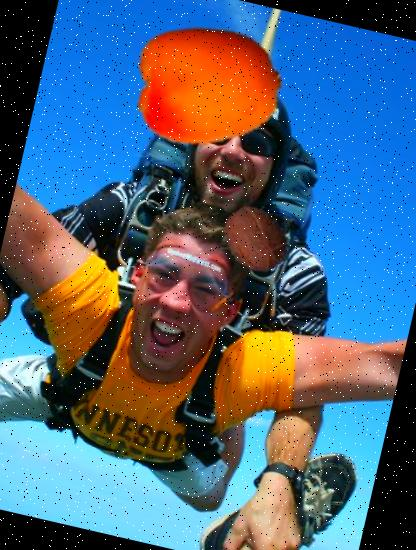Apricot: (120, 0, 294, 170)
Cocos: (214, 195, 300, 280)
